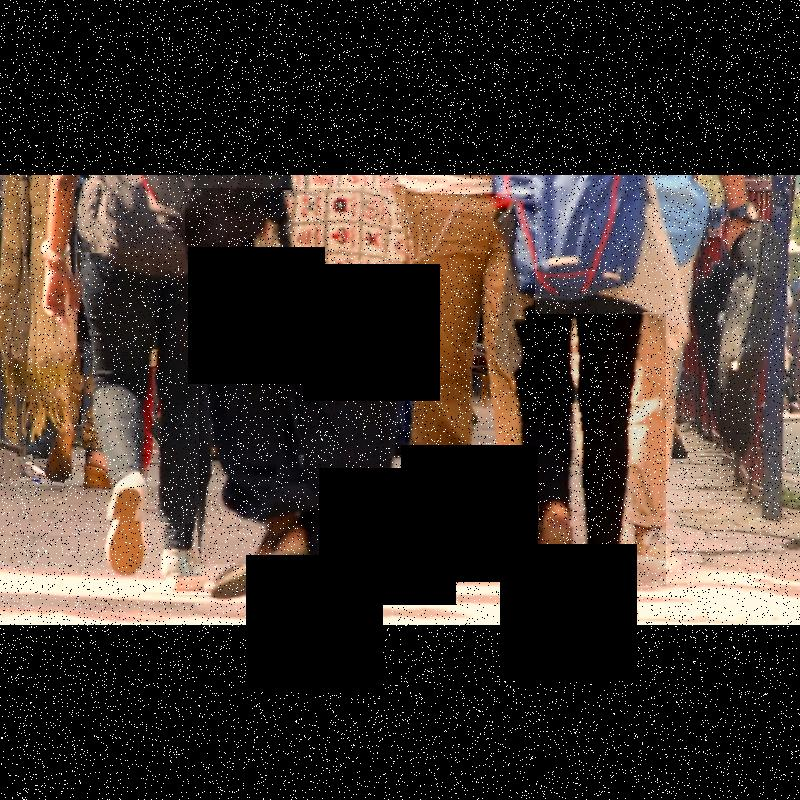Churidaar: (185, 188, 421, 564)
Jeans: (67, 254, 199, 522)
Pant: (405, 194, 535, 530), (512, 314, 666, 586)
